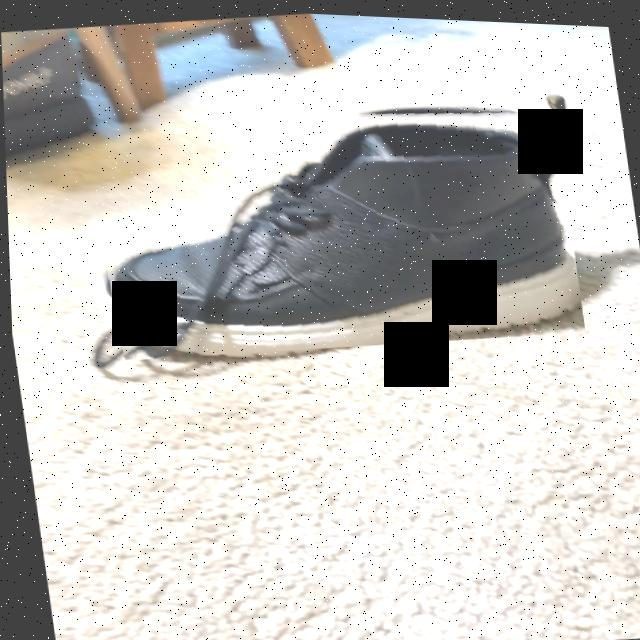shoe: (110, 105, 576, 353)
